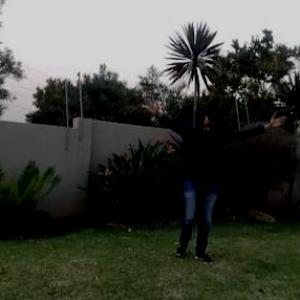takeoff: (145, 91, 274, 278)
